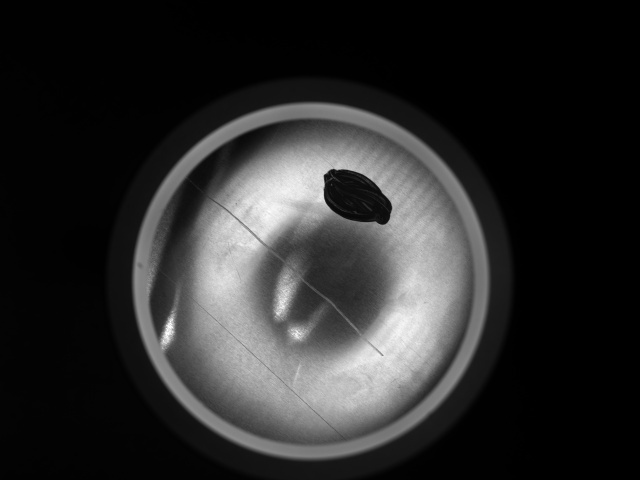ca_shang: (197, 184, 388, 358), (168, 275, 348, 441)
zang_wu: (322, 167, 396, 227)
